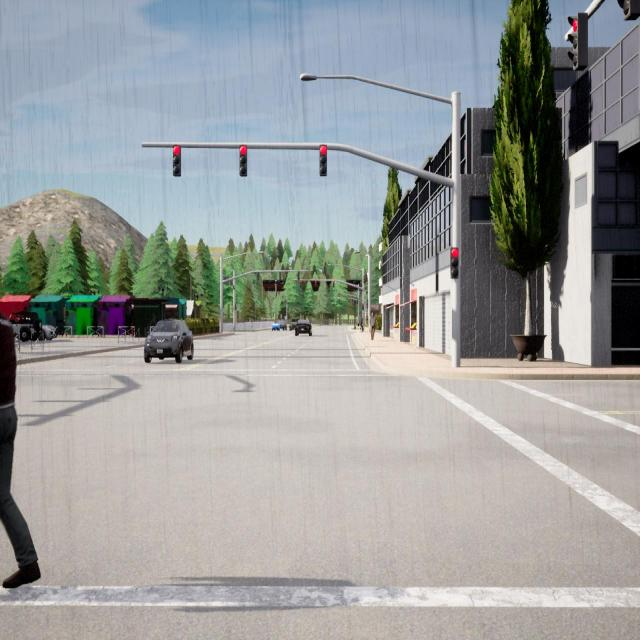Pedestrian: (0, 312, 40, 588), (369, 311, 376, 341), (359, 314, 364, 333)
Vehicle: (144, 318, 194, 363), (8, 312, 43, 342), (295, 320, 312, 337), (42, 325, 57, 340), (288, 318, 299, 330), (276, 319, 287, 330), (272, 321, 280, 331)
traffic_light: (566, 14, 588, 72), (617, 0, 640, 21), (239, 144, 248, 178), (172, 145, 181, 176), (451, 247, 459, 280), (319, 143, 327, 175), (363, 276, 365, 284), (300, 280, 302, 288), (280, 272, 282, 280), (257, 272, 259, 280), (298, 272, 300, 279), (365, 275, 367, 282), (362, 304, 364, 310), (333, 281, 335, 287), (315, 280, 317, 286), (235, 304, 237, 310), (338, 292, 339, 298)
